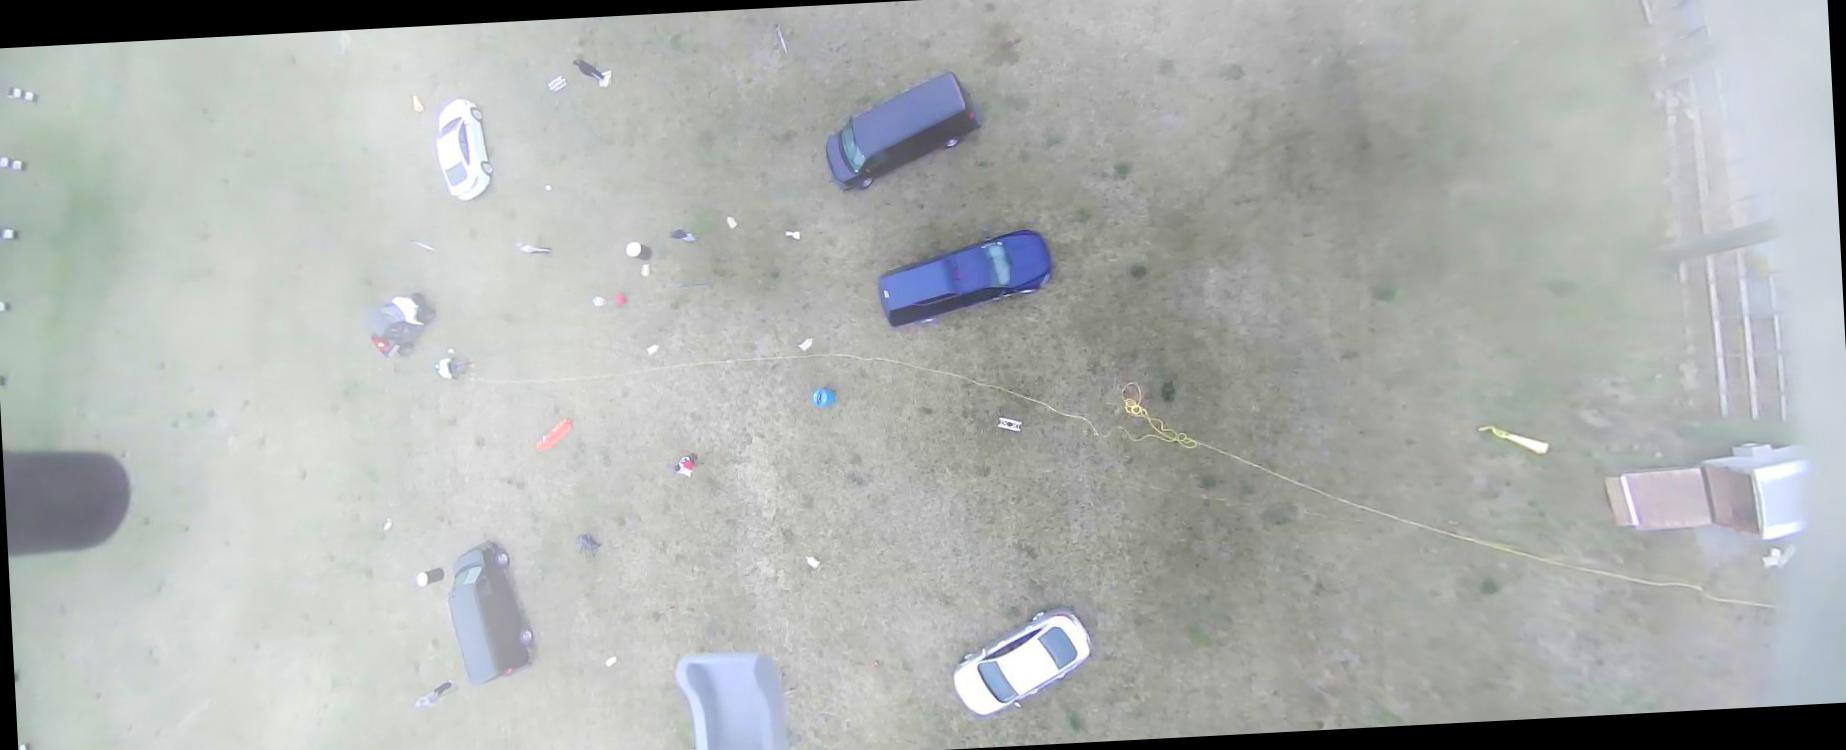vehicle: (821, 69, 980, 193), (876, 228, 1056, 328), (950, 605, 1096, 717), (447, 538, 537, 686), (434, 97, 496, 203), (367, 291, 439, 359)
